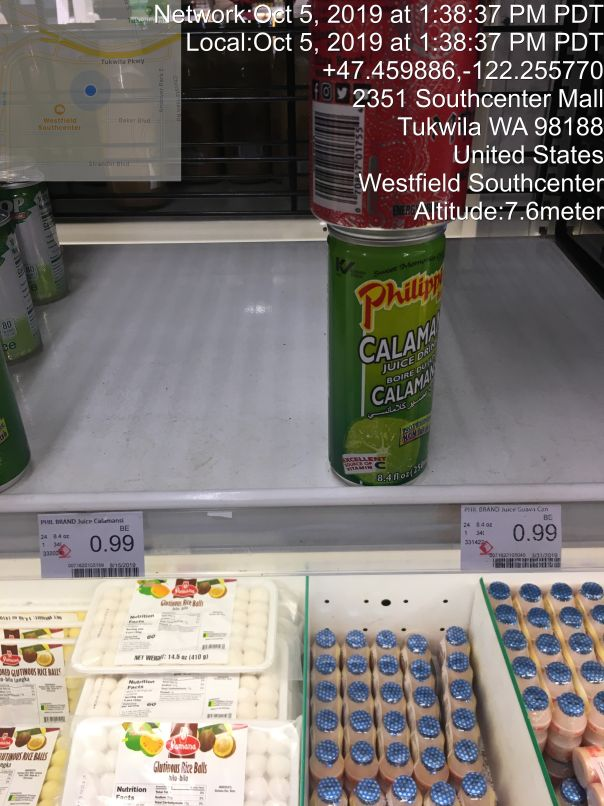Calamant Juice Drink: (319, 205, 450, 489)
Label: (25, 504, 161, 589)
Location: (348, 81, 604, 197)
Time: (144, 1, 603, 59)
